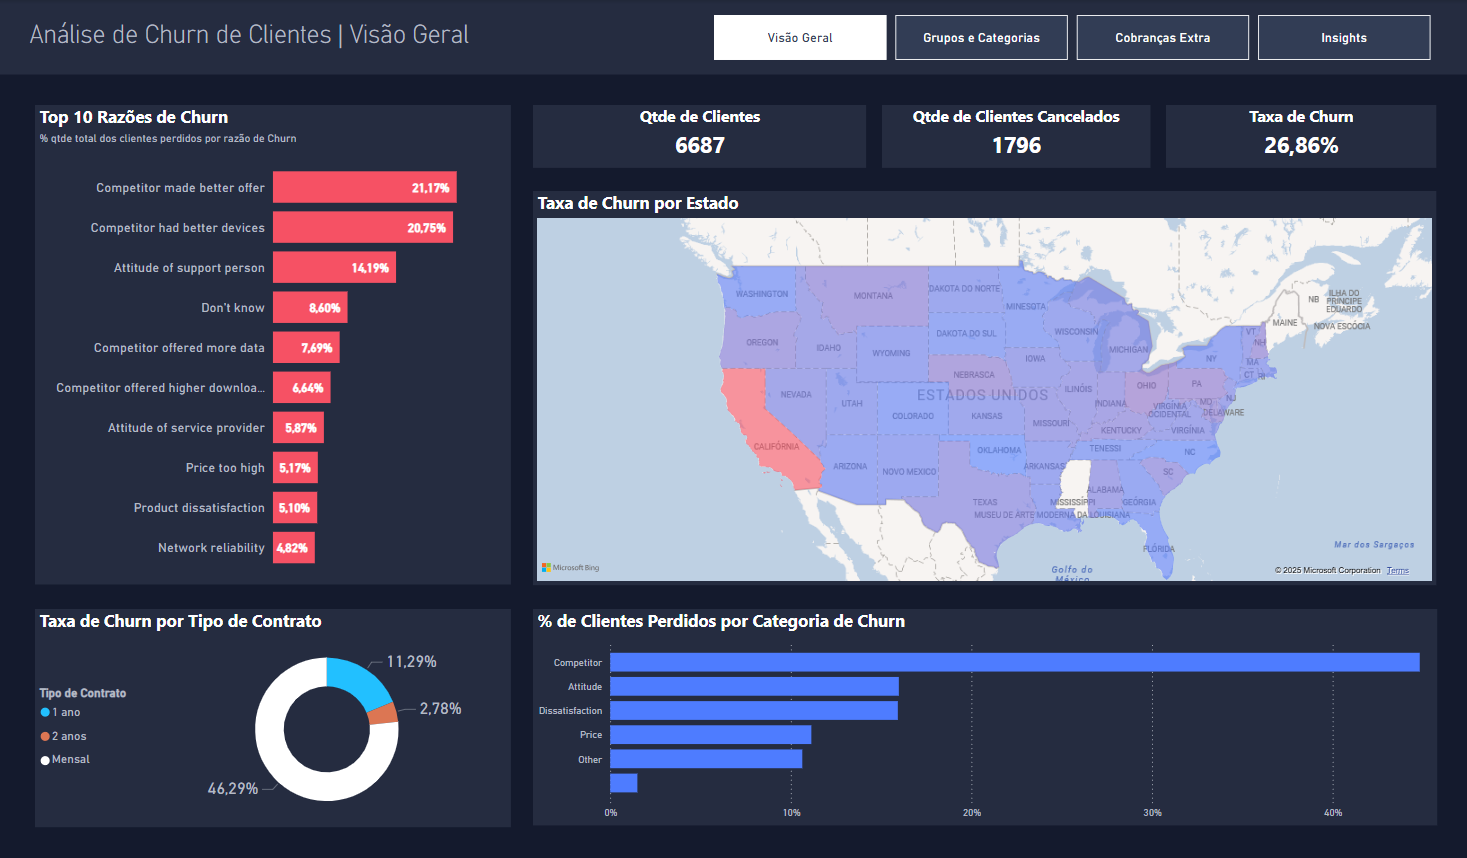

What the dashboard file says about the page in this screenshot:
{"tool":"powerbi","page":{"name":"Visão Geral","canvas":[1640,960],"ordinal":0},"visuals":[{"type":"card","title":"Qtde de Clientes","fields":{"Values":["_Measures.Number of Customers"]},"box":[594.3,117.1,371.4,70],"z":0,"group":"g1"},{"type":"card","title":"Qtde de Clientes Cancelados","fields":{"Values":["_Measures.Number of Churned Customers"]},"box":[982.9,117.1,298.6,70],"z":1000,"group":"g1"},{"type":"card","title":"Taxa de Churn","fields":{"Values":["_Measures.Churn Rate"]},"box":[1300,117.1,301.4,70],"z":2000,"group":"g1"},{"type":"clusteredBarChart","title":"Top 10 Razões de Churn","fields":{"Category":["Databel - Data.Churn Reason"],"Y":["Divide(_Measures.Number of Churned Customers, ScopedEval(_Measures.Number of Churned Customers, []))"]},"box":[40,117.1,530,534.3],"z":3000,"group":"g1"},{"type":"clusteredBarChart","title":"% de Clientes Perdidos por Categoria de Churn","fields":{"Category":["Databel - Data.Churn Category"],"Y":["_Measures.Number of Churned Customers"]},"box":[594.3,678.6,1007.1,241.4],"z":4000,"group":"g1"},{"type":"donutChart","title":"Taxa de Churn por Tipo de Contrato","fields":{"Category":["Databel - Data.Contract Type"],"Y":["_Measures.Churn Rate"]},"box":[40,678.6,530,242.9],"z":5000,"group":"g1"},{"type":"shape","box":[0,0,1640.2,83.1],"z":6000,"group":"g1"},{"type":"filledMap","title":"Taxa de Churn por Estado","fields":{"Category":["Databel - Data.State"]},"box":[594.3,212.9,1005.7,438.6],"z":7000,"group":"g1"},{"type":"textbox","box":[29,16,658,51],"z":8000,"group":"g1"},{"type":"pageNavigator","box":[795.8,16.7,800,50],"z":9000,"group":"g1"},{"type":"group","id":"g1","title":"Group 1","box":[0,0,1640,921.4],"z":9001}]}

Visuals, with their boxes in screenshot pixels (x1, y1, x2, y2), scaled from the page's 1640x960 canvas onto the 1467x858 screenshot:
"Qtde de Clientes" card: l=532, t=105, r=864, b=167
"Qtde de Clientes Cancelados" card: l=879, t=105, r=1146, b=167
"Taxa de Churn" card: l=1163, t=105, r=1432, b=167
"Top 10 Razões de Churn" clusteredBarChart: l=36, t=105, r=510, b=582
"% de Clientes Perdidos por Categoria de Churn" clusteredBarChart: l=532, t=606, r=1432, b=822
"Taxa de Churn por Tipo de Contrato" donutChart: l=36, t=606, r=510, b=824
shape: l=0, t=0, r=1466, b=74
"Taxa de Churn por Estado" filledMap: l=532, t=190, r=1431, b=582
textbox: l=26, t=14, r=615, b=60
pageNavigator: l=712, t=15, r=1427, b=60
"Group 1" group: l=0, t=0, r=1466, b=824
